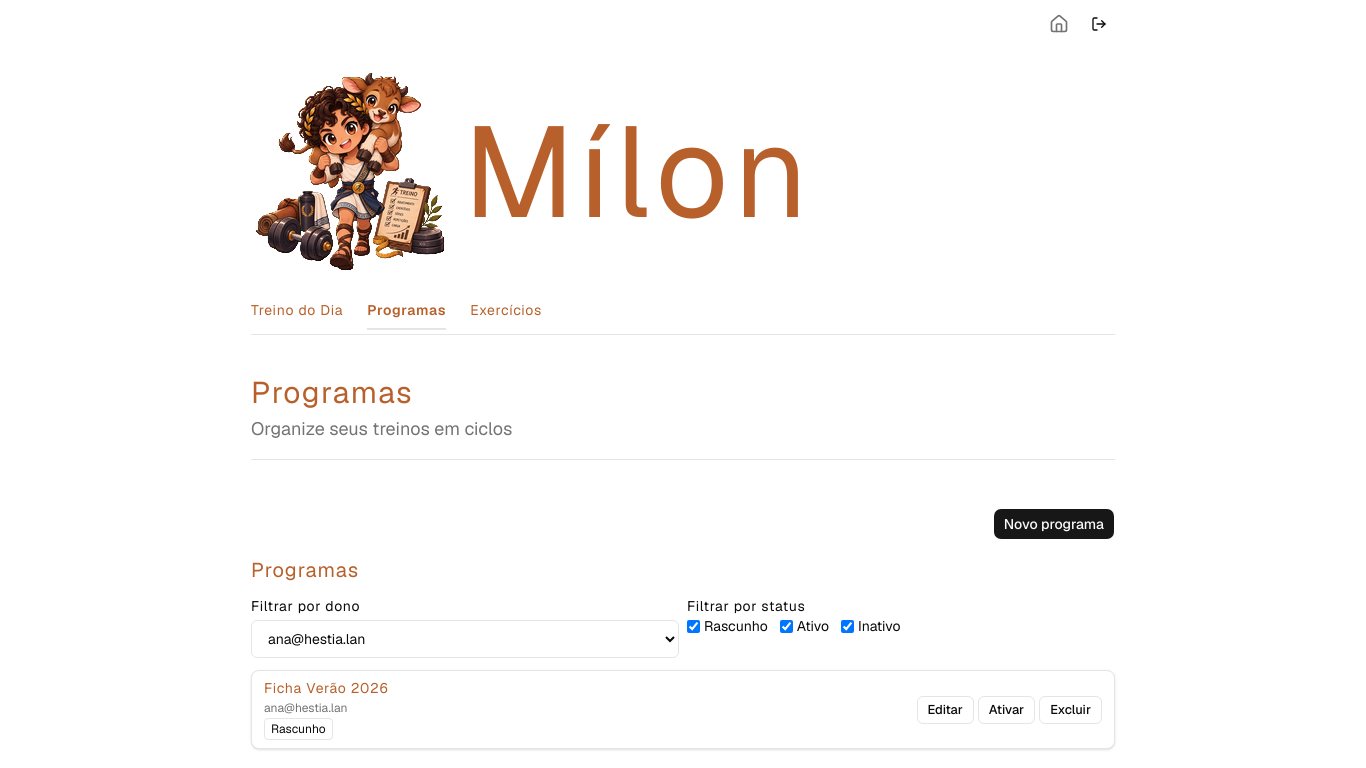
Test case: Página /milon/programs — Programas (Mílon #2, TASK-010) › editar: abre ProgramModal com os dados do item e salva com o id
Click the button "Editar" at (945, 710), box [916,696,974,724]
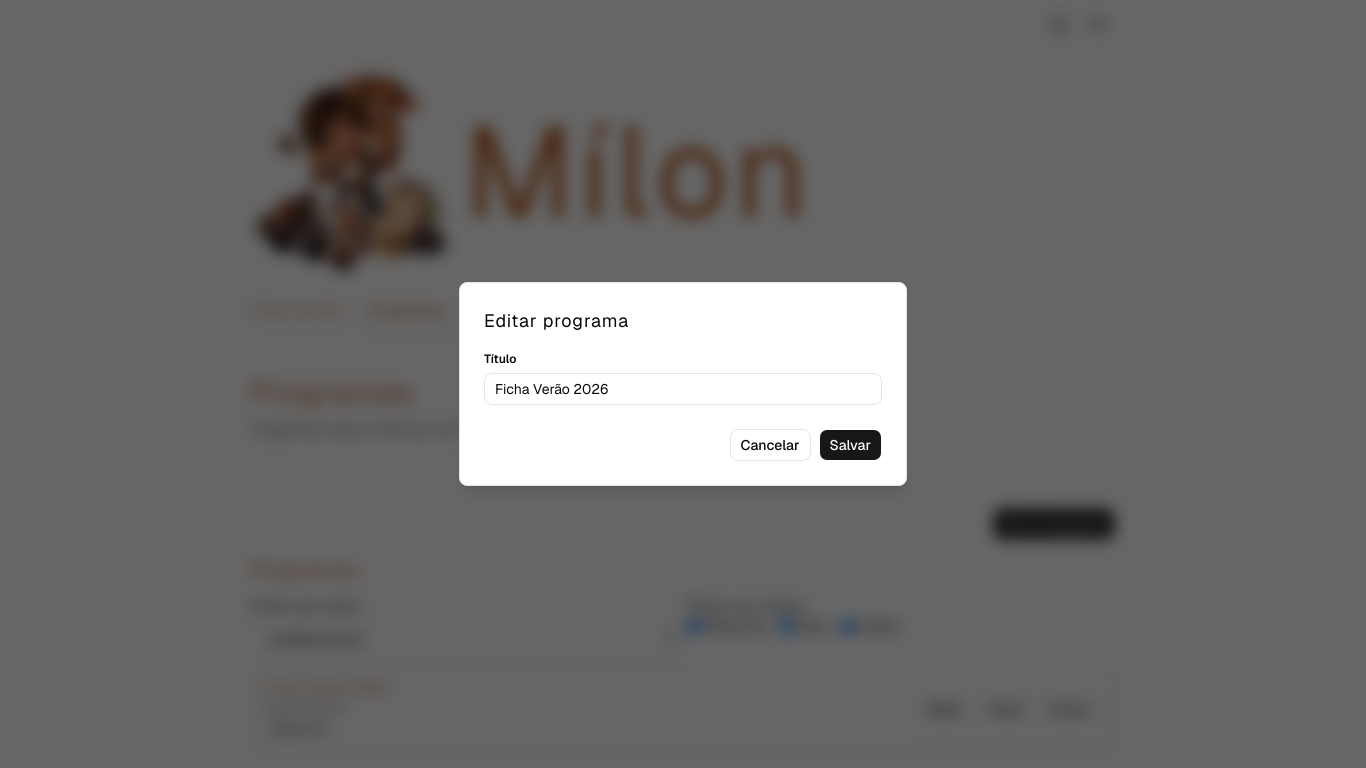
Expected: the heading "Editar programa" is shown, [484,309,629,332]
Expected: the field labelled "Título" holds "Ficha Verão 2026"
Replace the text in the field labelled "Título" with "Ficha Verão 2026 Editada" at (683, 389), box [484,373,882,405]
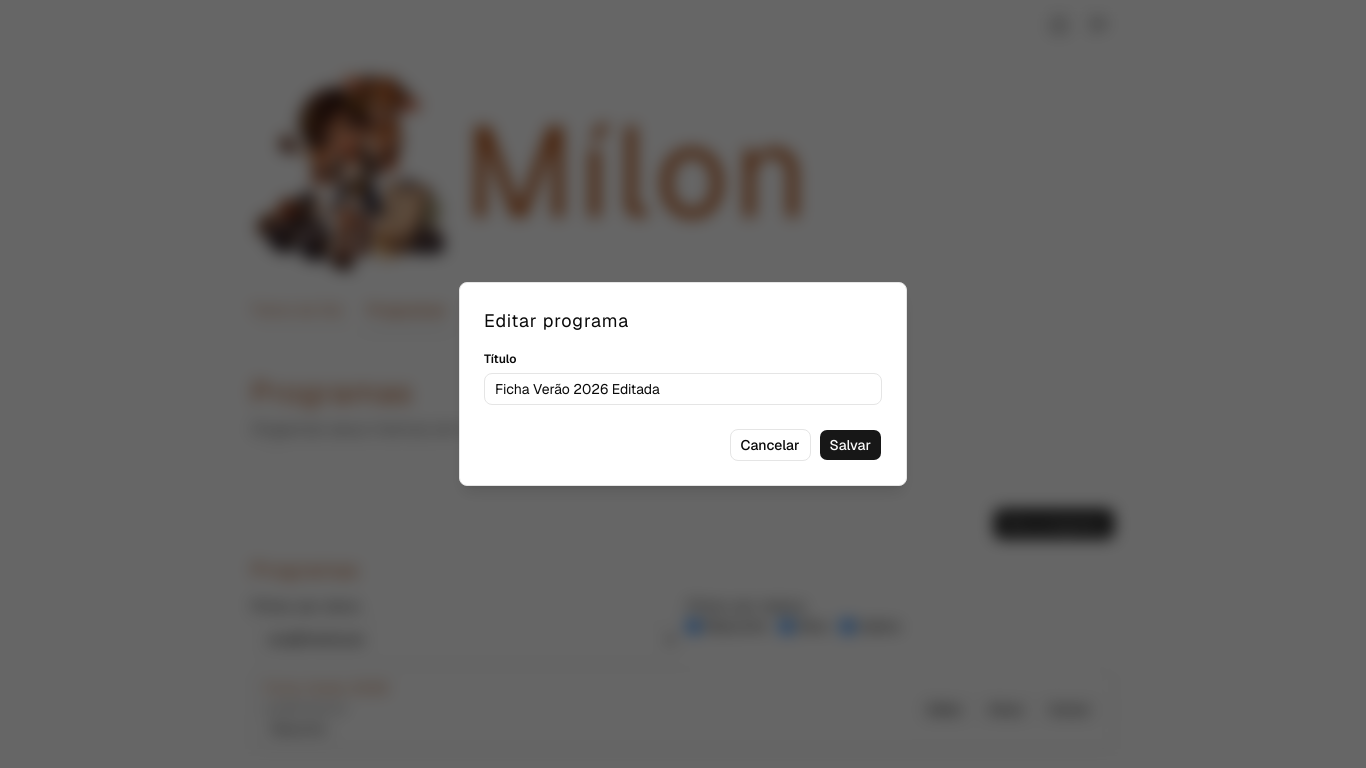
Click the button "Salvar" at (850, 445), box [818,429,882,461]
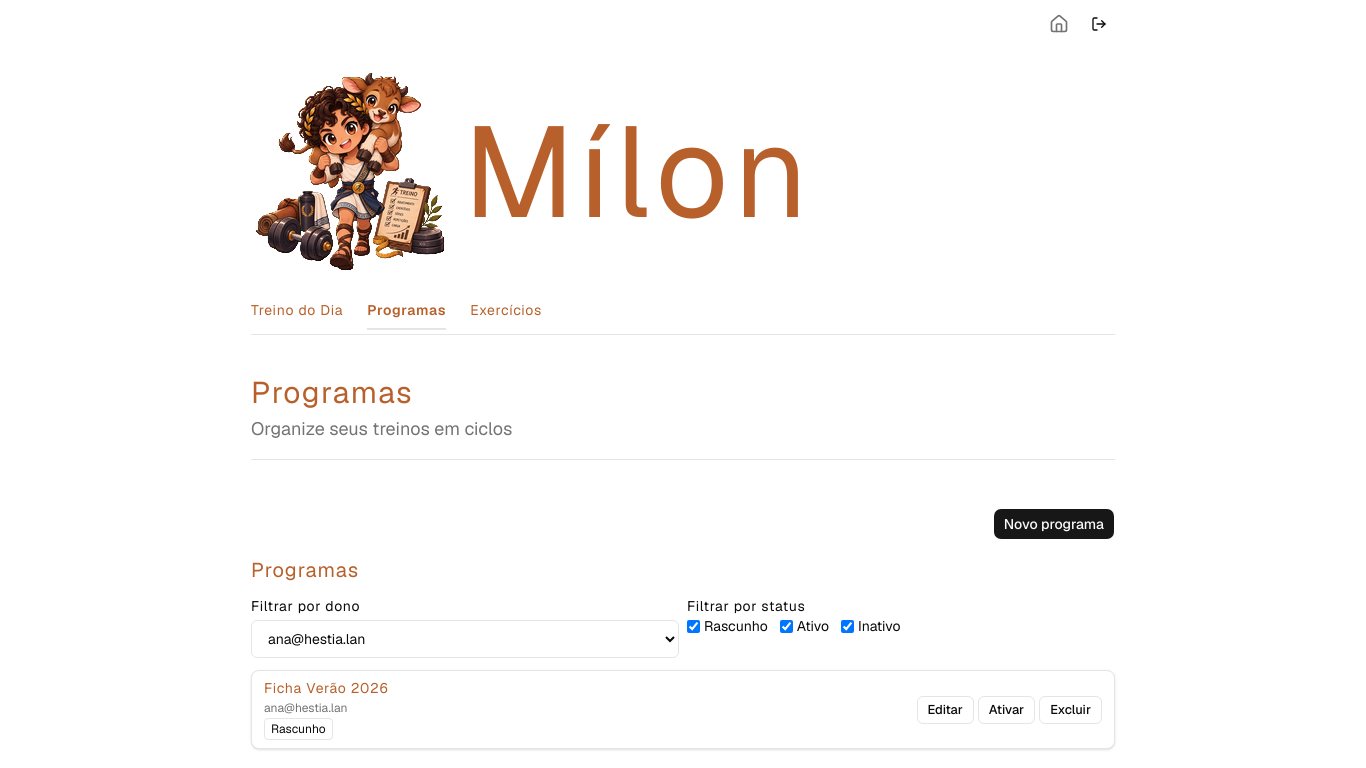
Expected: the heading "Editar programa" is gone
